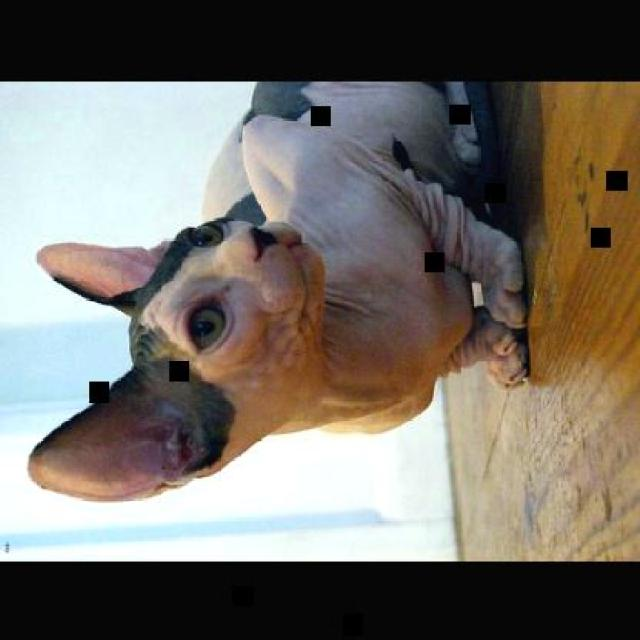unauthorized: (26, 79, 529, 503)
